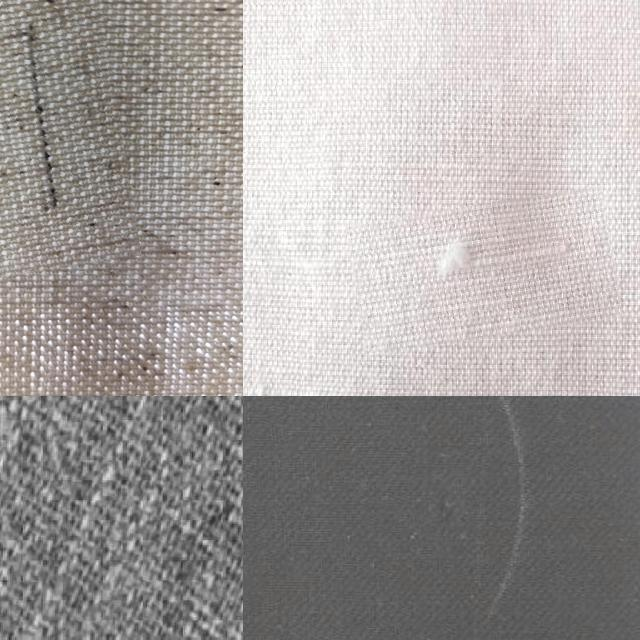Thread_other: (350, 196, 618, 348)
